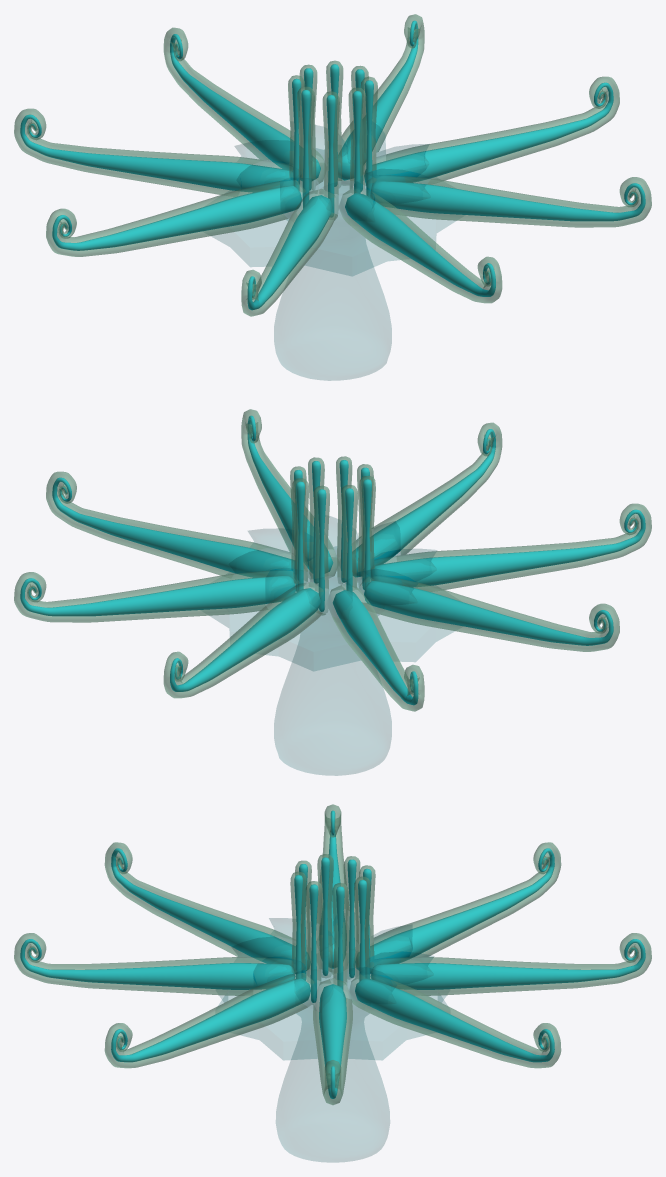
File: Sea Anemone.fbx
The picture shows the model from 3 angles, top to bottom: view 1: azimuth 30°, elevation 25°; view 2: azimuth 150°, elevation 25°; view 3: azimuth 270°, elevation 25°; orthographic projection. The views are drawn at different scales.
Parts seen in each view (by area): view 1: Tentacles_horizontal, Body, Tentacles_vertical, Plane, Plane.001; view 2: Tentacles_horizontal, Body, Tentacles_vertical, Plane, Plane.001; view 3: Tentacles_horizontal, Body, Tentacles_vertical, Plane, Plane.001.
Boxes of the visible parts, <box> form: Tentacles_horizontal: <box>14,14,651,316</box>; Body: <box>274,155,391,380</box>; Tentacles_vertical: <box>288,60,377,220</box>; Plane: <box>235,124,431,220</box>; Plane.001: <box>211,148,455,275</box>; Tentacles_horizontal: <box>14,409,651,711</box>; Body: <box>274,550,391,775</box>; Tentacles_vertical: <box>290,456,375,615</box>; Plane: <box>229,516,436,617</box>; Plane.001: <box>210,547,454,670</box>; Tentacles_horizontal: <box>14,804,651,1104</box>; Body: <box>276,964,389,1162</box>; Tentacles_vertical: <box>290,854,375,1004</box>; Plane: <box>232,918,433,1009</box>; Plane.001: <box>218,992,447,1059</box>.
Bounding box in the file's own units: 6.09 × 2.87 × 6.09.
